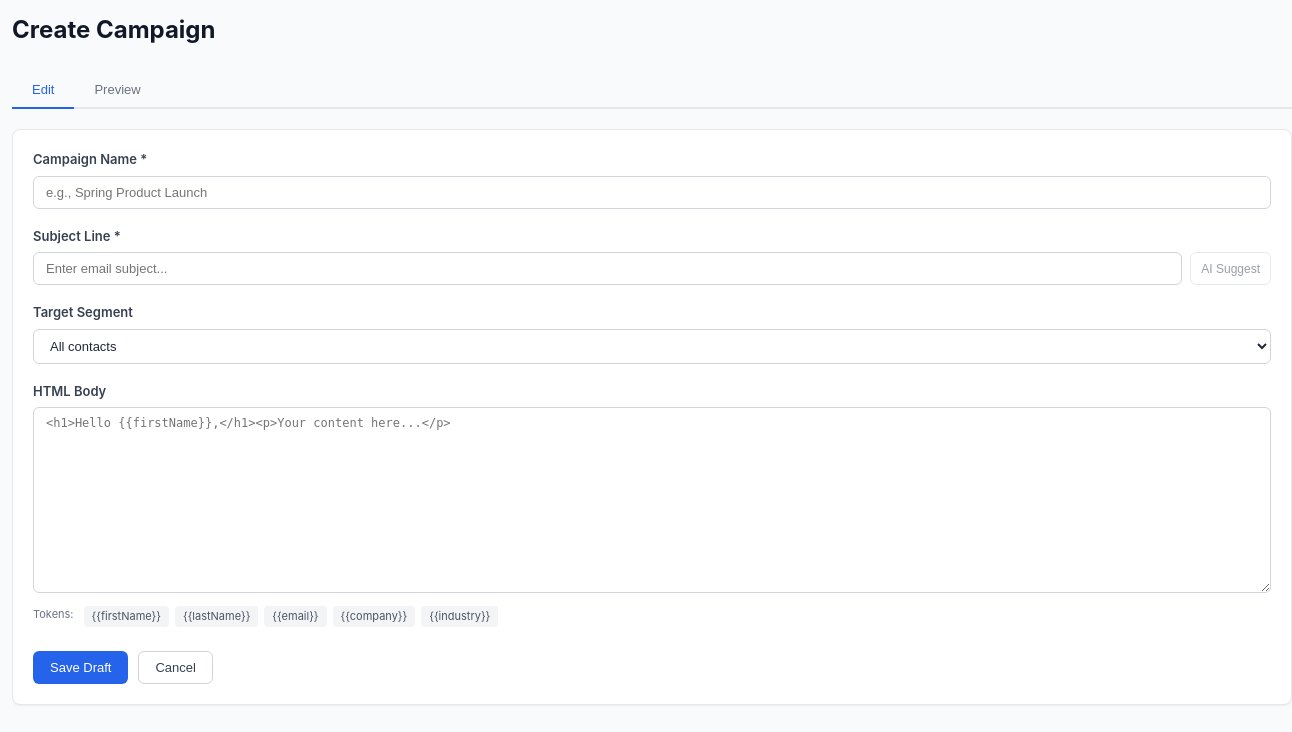
Test: CampaignEditor › inserts a personalization token when clicked
The image size is (1292, 732).
Click a token hint
Click the text "{{firstName}}" at point(126, 616), box [84, 606, 169, 626]
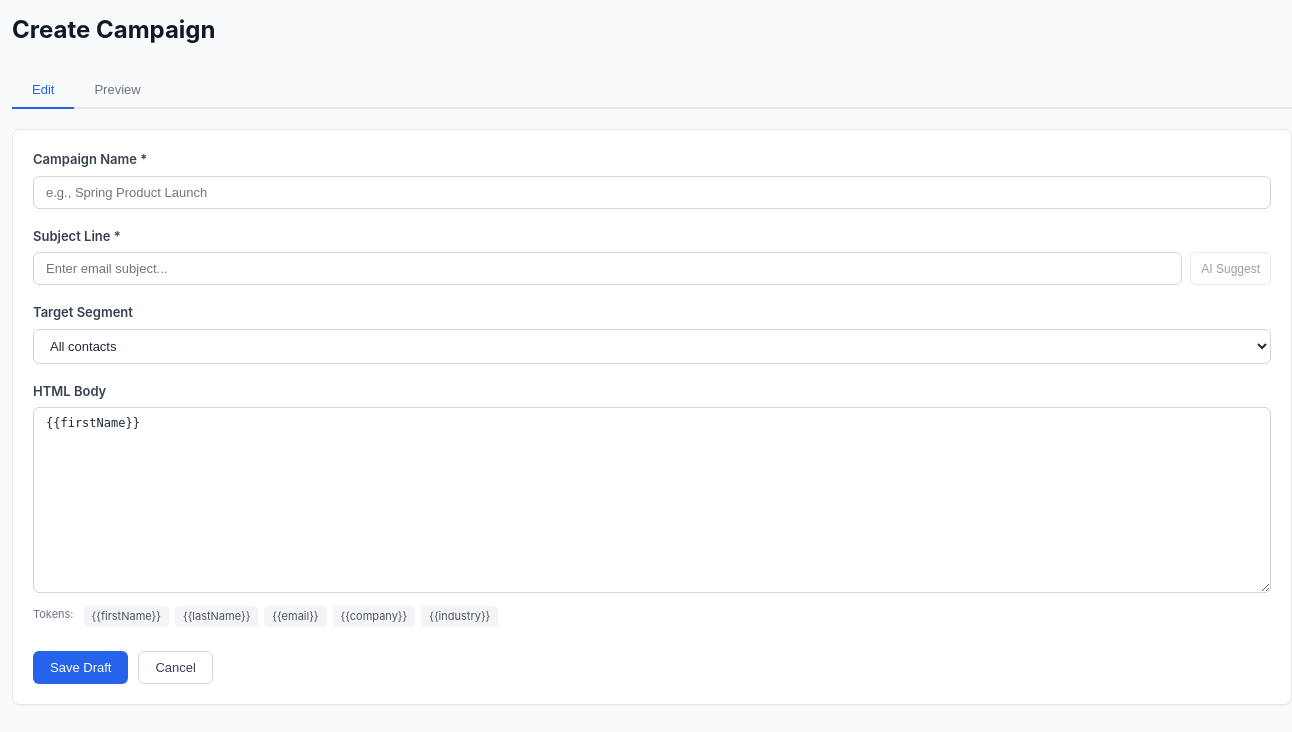
Result: the text box with placeholder "<h1>Hello {{firstName}},</h1><p>Your content here...</p>" holds "{{firstName}}" at [33, 407, 1271, 593]
